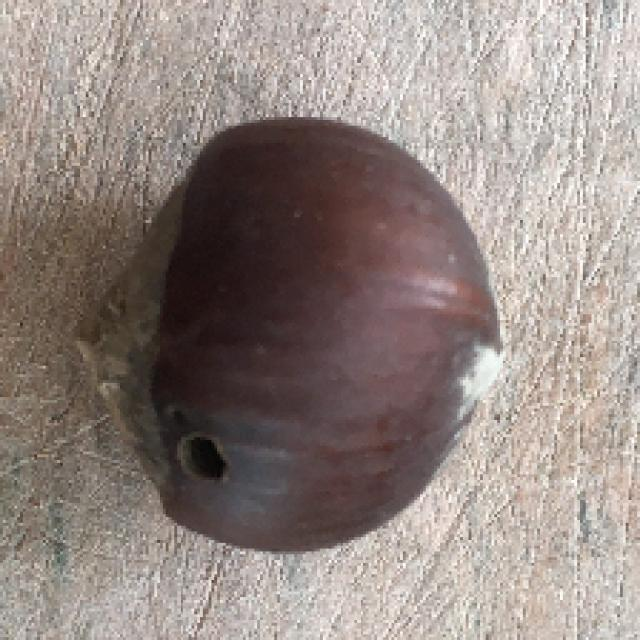damagedHazelnut: (59, 103, 514, 563)
